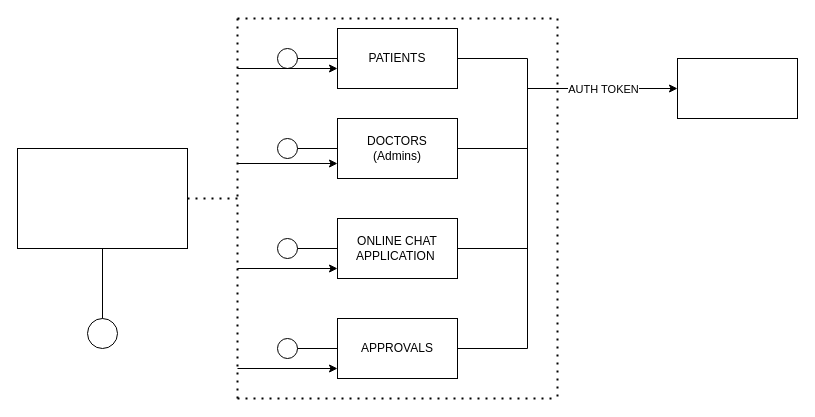
The diagram is 815 pixels wide and 417 high, and some of its shapes have lost their labels. The shapes that lost their labels are listed below. From the top down, each one's centre as x and y in pixels, then its label:
(737,88): AUTHENTICATION
(102,198): ONLINE DOCTOR APPOINTMENT BOOKING PLATFORM [MEDILINK AI]
